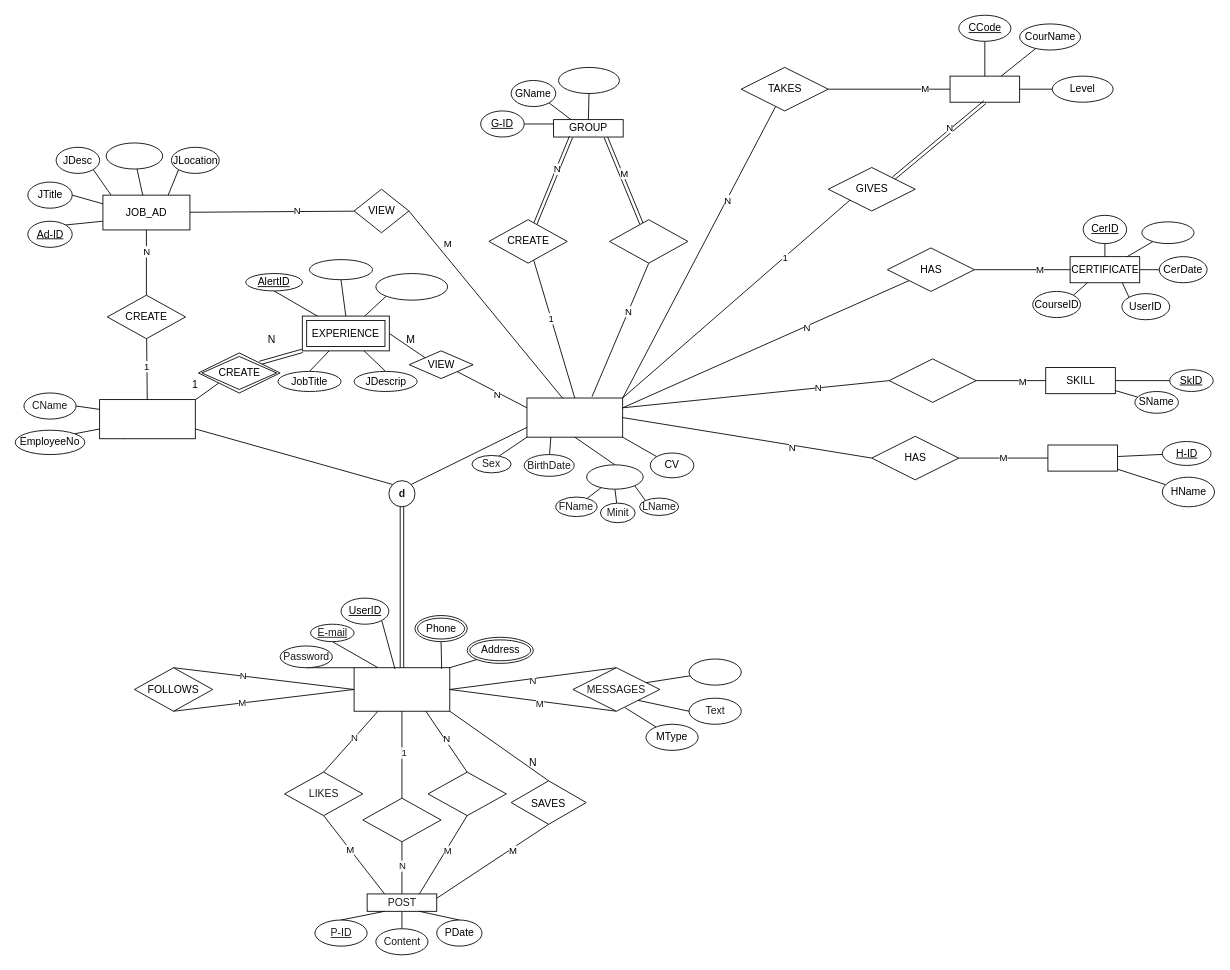
This 1230x970 diagram has some shape labels left out. The shapes that lost their labels are listed below. From the top down, each one's centre as x and y in pixels, then its label:
At pixel 588 80: "MemberNo".
At pixel 984 88: "COURSE".
At pixel 134 155: "JPosition".
At pixel 648 241: "MEMBER_OF".
At pixel 1167 232: "CerName".
At pixel 341 269: "JobPosition".
At pixel 411 286: "JobLocation".
At pixel 932 380: "SKILLS".
At pixel 147 419: "COMPANY".
At pixel 574 417: "PERSON".
At pixel 614 476: "PName".
At pixel 1082 457: "HOBBY".
At pixel 401 689: "USER".
At pixel 714 671: "MTime".
At pixel 466 793: "COMMENTS".
At pixel 401 819: "POSTS".
